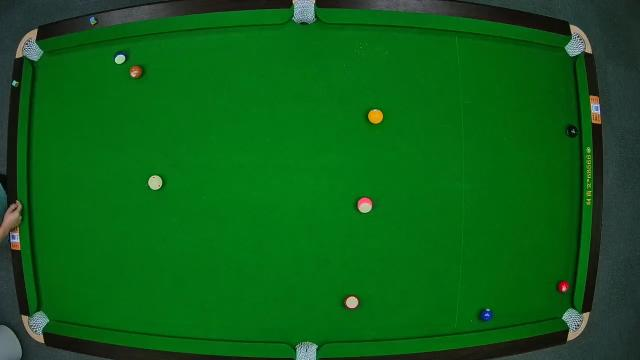bag1: (19, 36, 45, 64)
bag2: (292, 0, 316, 26)
bag3: (563, 30, 589, 57)
bag4: (25, 309, 51, 339)
bag5: (294, 340, 318, 360)
bag6: (560, 306, 586, 334)
ball0: (148, 174, 164, 192)
ball1: (368, 108, 384, 126)
ball11: (344, 294, 361, 310)
ball12: (357, 196, 373, 214)
ball14: (112, 50, 128, 66)
ball2: (478, 306, 494, 322)
ball3: (556, 278, 572, 294)
ball7: (130, 66, 144, 80)
ball8: (564, 122, 580, 140)
